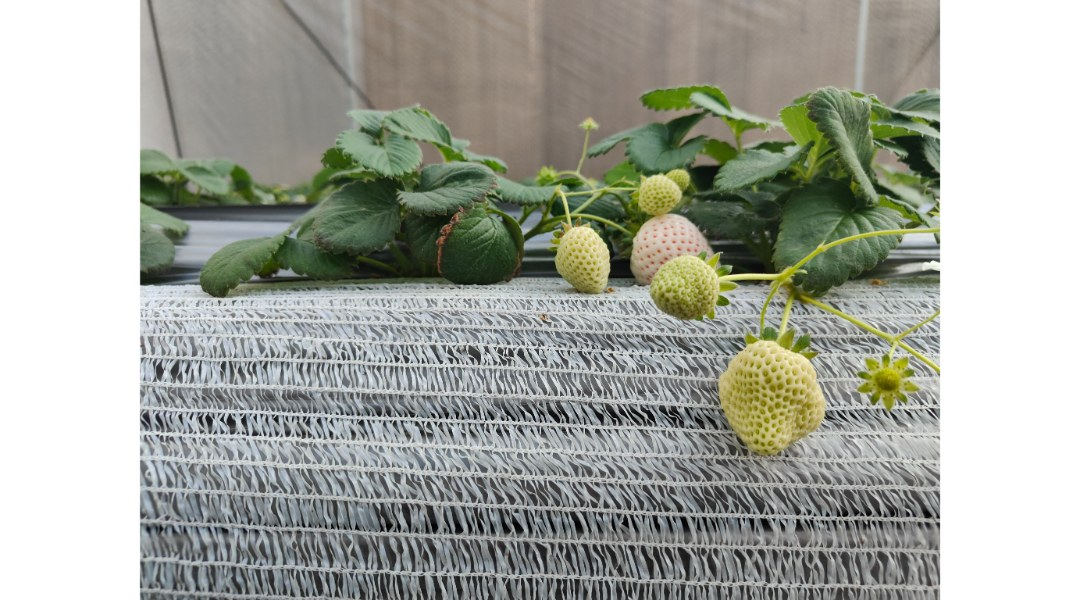berry: (717, 330, 831, 463), (649, 255, 730, 325), (632, 207, 715, 272), (552, 221, 614, 302), (852, 358, 919, 411), (629, 172, 688, 220)
strain: (834, 215, 943, 256), (805, 295, 885, 340), (724, 269, 775, 281)
